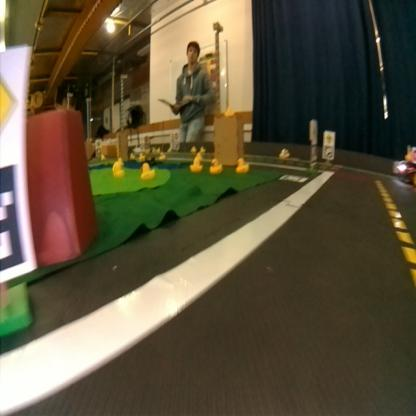Duckie: (141, 164, 155, 178), (210, 158, 223, 172), (191, 157, 203, 171), (237, 158, 249, 172), (114, 162, 124, 175), (226, 106, 234, 116), (280, 148, 288, 156)
Duckiebot: (394, 151, 415, 185)
Intersection sign: (325, 131, 335, 144)
QR code: (280, 173, 308, 182), (326, 144, 334, 158)
